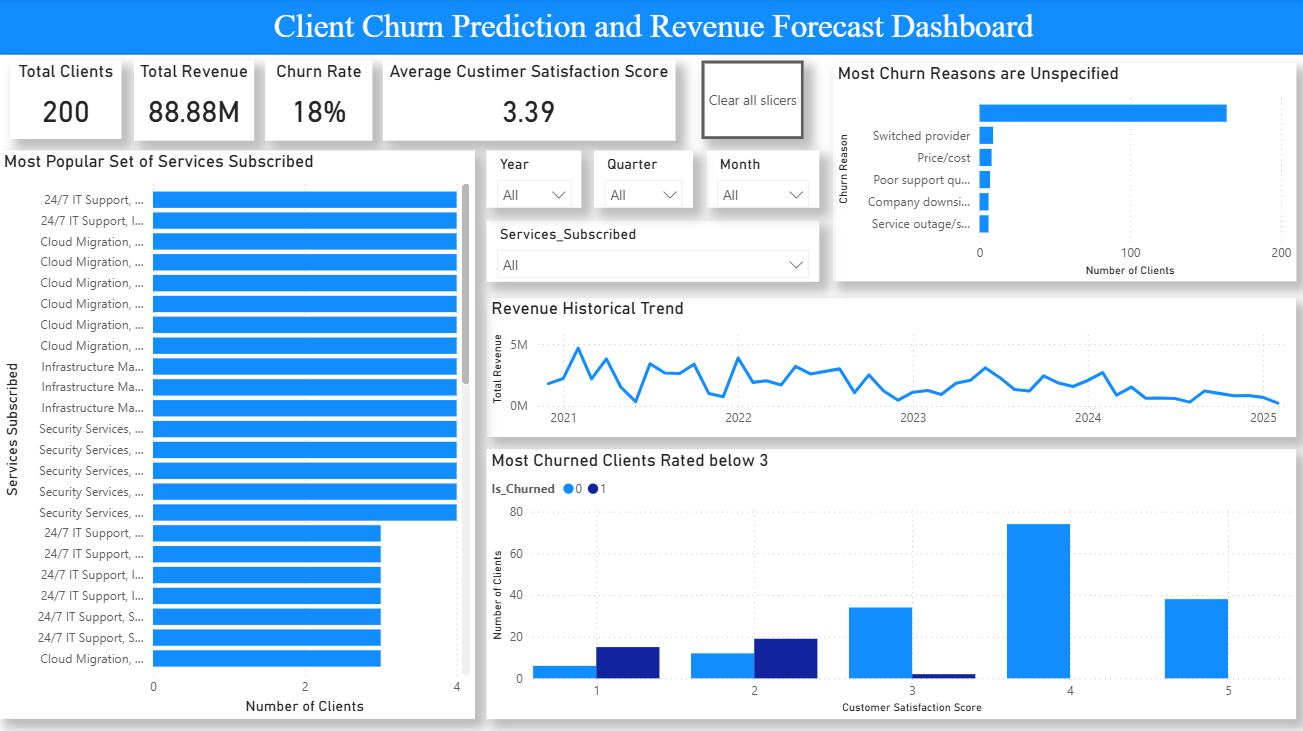

The dashboard page shown, as its layout file describes it:
{"tool":"powerbi","page":{"name":"Page 1","canvas":[1280,720],"ordinal":0},"visuals":[{"type":"card","title":"Total Clients","fields":{"Values":["CountNonNull(Client_Master.Client_ID)"]},"box":[11,61.1,108.8,77],"z":0},{"type":"card","title":"Total Revenue","fields":{"Values":["Sum(Service_Transactions.Revenue_Amount)"]},"box":[132.1,61.1,117.4,78.3],"z":1000},{"type":"card","title":"Churn Rate","fields":{"Values":["Client_Master.Churn Rate"]},"box":[260.5,61.1,105.2,78.3],"z":2000},{"type":"card","title":"Average Custimer Satisfaction Score","fields":{"Values":["Avg(Client_Master.Customer_Satisfaction_Score)"]},"box":[375.4,61.1,286.1,78.3],"z":3000},{"type":"shape","box":[0,0,1280.6,55.2],"z":4000},{"type":"lineChart","title":"Revenue Historical Trend","fields":{"Category":["Client_Master.Contract_Start_Date.Variation.Date Hierarchy.Year","Client_Master.Contract_Start_Date.Variation.Date Hierarchy.Month"],"Y":["Sum(Service_Transactions.Revenue_Amount)"]},"box":[476.9,293.5,792.4,135.7],"z":5000},{"type":"clusteredBarChart","title":"Most Popular Set of Services Subscribed","fields":{"Category":["Client_Master.Services_Subscribed"],"Y":["Count(Service_Transactions.Service_Line)"]},"box":[0,149.2,465.9,556.4],"z":6000},{"type":"clusteredBarChart","title":"Most Churn Reasons are Unspecified","fields":{"Category":["Client_Master.Churn_Reason"],"Y":["CountNonNull(Client_Master.Client_ID)"]},"box":[815.6,63.6,453.7,214],"z":7000},{"type":"clusteredColumnChart","title":"Most Churned Clients Rated below 3","fields":{"Category":["Client_Master.Customer_Satisfaction_Score"],"Series":["Client_Master.Is_Churned"],"Y":["CountNonNull(Client_Master.Client_ID)"]},"box":[476.9,441.4,792.4,264.1],"z":8000},{"type":"slicer","fields":{"Values":["Client_Master.Services_Subscribed"]},"box":[476.9,217.7,325.3,59.9],"z":9000},{"type":"slicer","fields":{"Values":["Client_Master.Contract_Start_Date.Variation.Date Hierarchy.Year"]},"box":[476.9,149.2,92.9,56.3],"z":10000},{"type":"actionButton","box":[687.2,61.1,100.3,77],"z":12000},{"type":"slicer","fields":{"Values":["Client_Master.Contract_Start_Date.Variation.Date Hierarchy.Month"]},"box":[692.1,149.2,110.1,56.3],"z":13000},{"type":"slicer","fields":{"Values":["Client_Master.Contract_Start_Date.Variation.Date Hierarchy.Quarter"]},"box":[582.1,149.2,96.6,56.3],"z":13001}]}

Visuals, with their boxes in screenshot pixels (x1, y1, x2, y2), scaled from the page's 1280x720 canvas onto the 1303x731 screenshot:
"Total Clients" card: (left=11, top=62, right=122, bottom=140)
"Total Revenue" card: (left=134, top=62, right=254, bottom=142)
"Churn Rate" card: (left=265, top=62, right=372, bottom=142)
"Average Custimer Satisfaction Score" card: (left=382, top=62, right=673, bottom=142)
shape: (left=0, top=0, right=1302, bottom=56)
"Revenue Historical Trend" lineChart: (left=485, top=298, right=1292, bottom=436)
"Most Popular Set of Services Subscribed" clusteredBarChart: (left=0, top=151, right=474, bottom=716)
"Most Churn Reasons are Unspecified" clusteredBarChart: (left=830, top=65, right=1292, bottom=282)
"Most Churned Clients Rated below 3" clusteredColumnChart: (left=485, top=448, right=1292, bottom=716)
slicer - Client_Master.Services_Subscribed: (left=485, top=221, right=817, bottom=282)
slicer - Client_Master.Contract_Start_Date.Variation.Date Hierarchy.Year: (left=485, top=151, right=580, bottom=209)
actionButton: (left=700, top=62, right=802, bottom=140)
slicer - Client_Master.Contract_Start_Date.Variation.Date Hierarchy.Month: (left=705, top=151, right=817, bottom=209)
slicer - Client_Master.Contract_Start_Date.Variation.Date Hierarchy.Quarter: (left=593, top=151, right=691, bottom=209)
